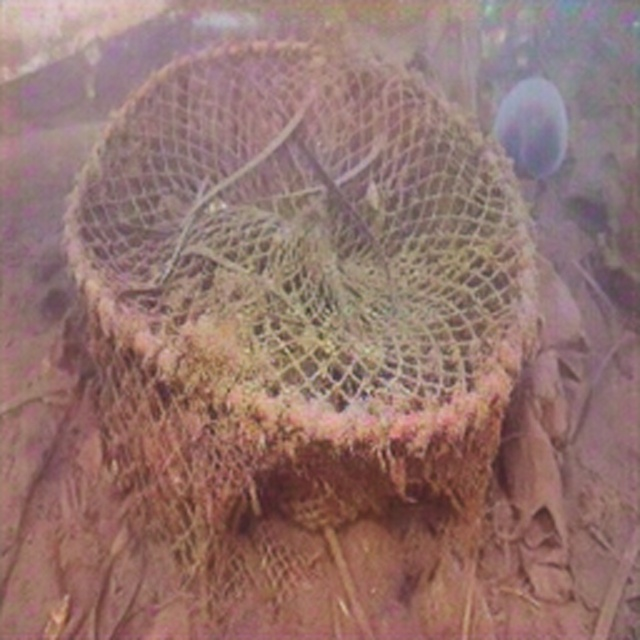mine: (61, 32, 539, 635)
